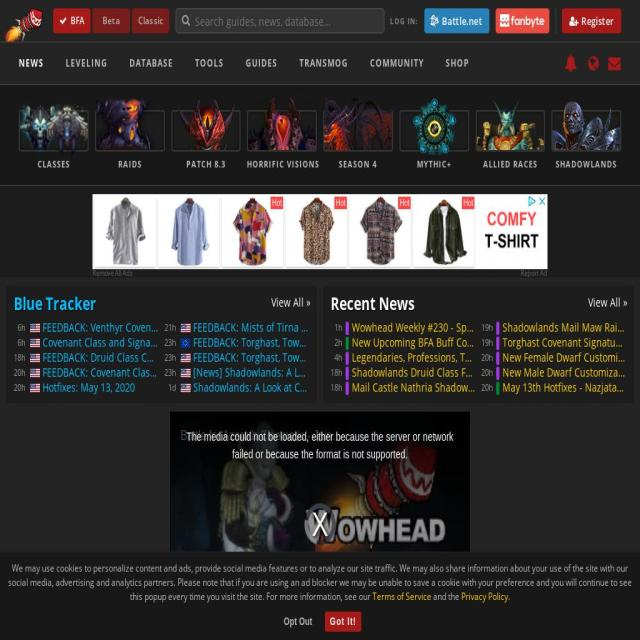button: (92, 194, 548, 269), (94, 110, 165, 177), (475, 110, 546, 177), (19, 110, 89, 177), (171, 110, 241, 177), (247, 110, 317, 177), (323, 110, 393, 177), (399, 110, 469, 177), (551, 110, 621, 177), (358, 43, 437, 84), (287, 43, 361, 84), (116, 43, 186, 84), (53, 43, 120, 84), (233, 43, 290, 84), (182, 43, 236, 84), (6, 43, 56, 84), (433, 43, 482, 84), (30, 320, 158, 335), (30, 335, 158, 350), (30, 350, 158, 365), (30, 365, 158, 380), (30, 380, 158, 395), (180, 320, 308, 335), (180, 335, 308, 350), (180, 350, 308, 365), (180, 365, 308, 380), (180, 380, 308, 395), (502, 320, 626, 335), (502, 335, 626, 350), (502, 350, 626, 365), (502, 365, 626, 380), (502, 380, 626, 395), (352, 320, 475, 335), (352, 335, 475, 350), (352, 350, 475, 365), (352, 365, 475, 380), (352, 380, 475, 395), (424, 8, 489, 34), (561, 8, 621, 34), (389, 0, 418, 42), (53, 8, 91, 34), (92, 8, 130, 34), (132, 8, 169, 34), (278, 612, 318, 632), (324, 612, 362, 632), (271, 294, 311, 310), (588, 294, 628, 310), (564, 43, 578, 84), (608, 43, 621, 84), (588, 43, 600, 84), (92, 269, 138, 278), (513, 269, 548, 278)
field: (176, 8, 384, 34)
iframe: (92, 194, 548, 269)
image: (170, 412, 470, 636), (170, 412, 470, 525), (170, 556, 470, 636), (0, 0, 53, 42)
link: (186, 200, 306, 222), (330, 292, 414, 315), (14, 292, 96, 315), (372, 589, 432, 603), (461, 589, 508, 603), (283, 220, 304, 242)
text: (8, 561, 632, 603), (186, 220, 415, 262), (94, 110, 165, 177), (475, 110, 546, 177), (19, 110, 89, 177), (171, 110, 241, 177), (247, 110, 317, 177), (323, 110, 393, 177), (399, 110, 469, 177), (551, 110, 621, 177), (180, 427, 346, 444), (186, 220, 283, 242), (304, 503, 336, 545), (441, 14, 482, 28), (581, 14, 614, 28), (431, 589, 461, 603), (389, 15, 418, 27), (164, 320, 180, 335), (164, 335, 180, 350), (164, 350, 180, 365), (164, 365, 180, 380), (164, 380, 180, 395), (330, 320, 346, 335), (330, 335, 346, 350), (330, 350, 346, 365), (330, 365, 346, 380), (330, 380, 346, 395), (14, 320, 28, 335), (14, 335, 28, 350), (14, 350, 28, 365), (14, 365, 28, 380), (14, 380, 28, 395), (482, 320, 496, 335), (482, 335, 496, 350), (482, 350, 496, 365), (482, 365, 496, 380), (482, 380, 496, 395), (508, 589, 510, 603)
